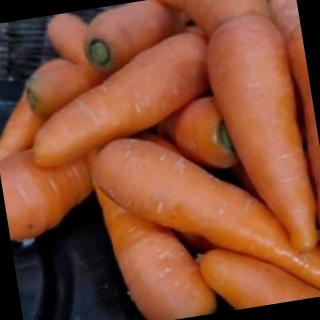Wortel: (86, 106, 320, 320), (16, 26, 227, 176), (198, 8, 320, 263)
